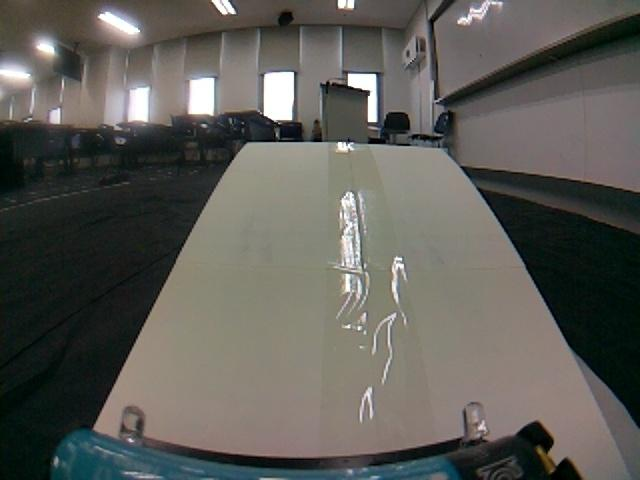hill_up: (83, 141, 628, 480)
